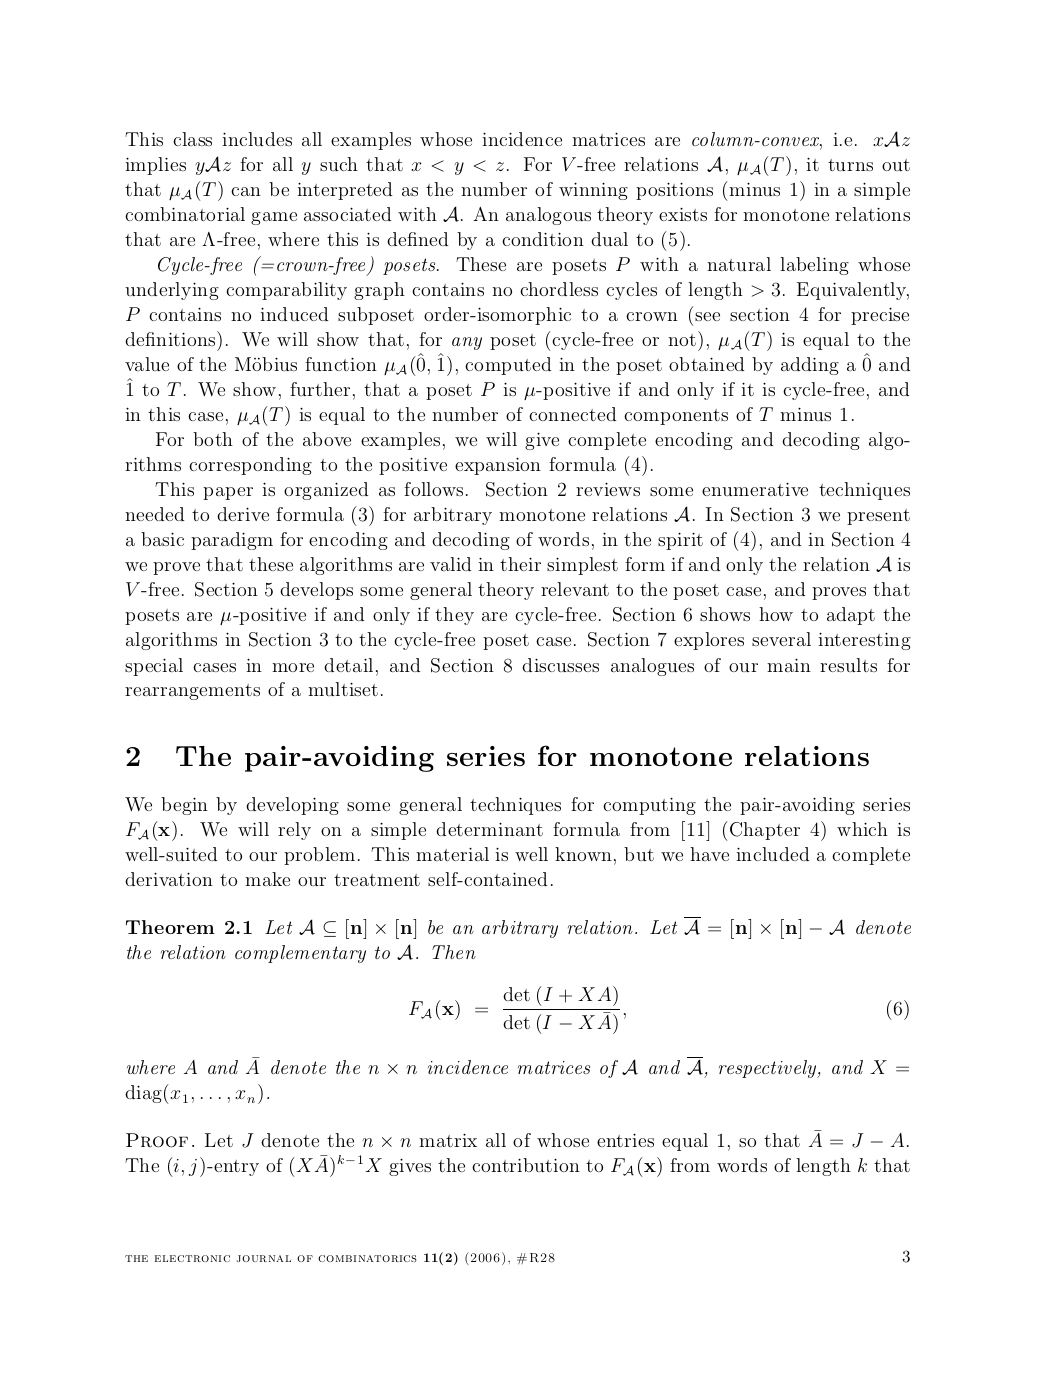formula: (409, 985, 908, 1034)
